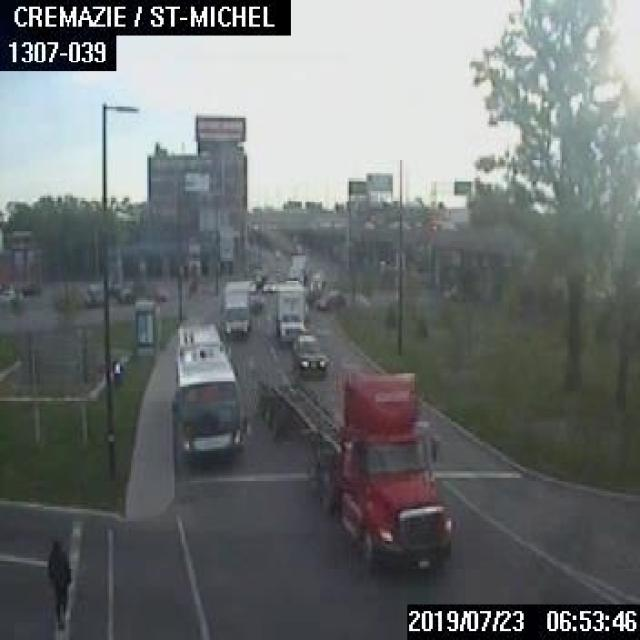bus: (173, 321, 246, 461)
pedestrian: (45, 538, 71, 626)
vehicle: (255, 371, 450, 568), (274, 283, 305, 338), (290, 333, 330, 375), (222, 278, 249, 334), (313, 288, 343, 309), (0, 288, 20, 303), (18, 280, 39, 294), (260, 278, 275, 290)
